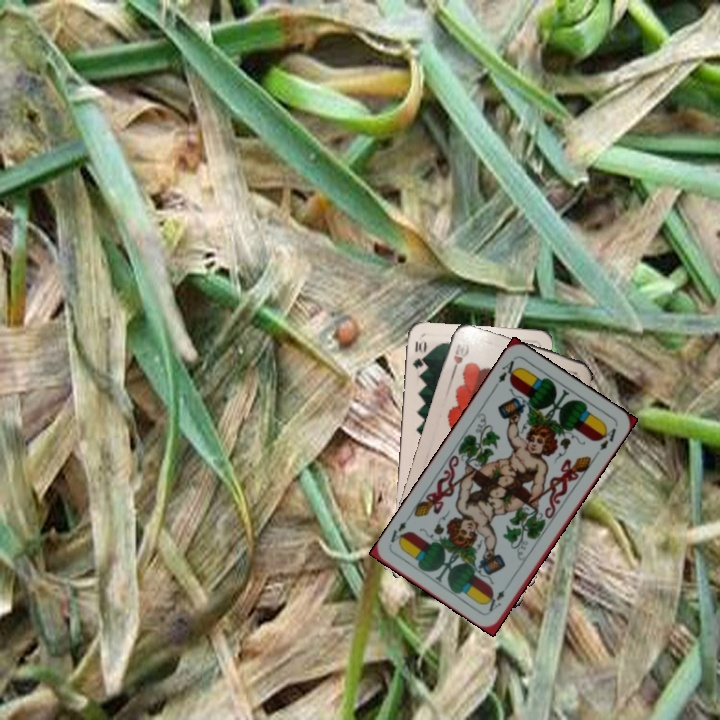EA: (489, 356, 521, 391), (485, 586, 507, 615)
G10: (408, 336, 428, 371)
H10: (448, 340, 466, 377)
